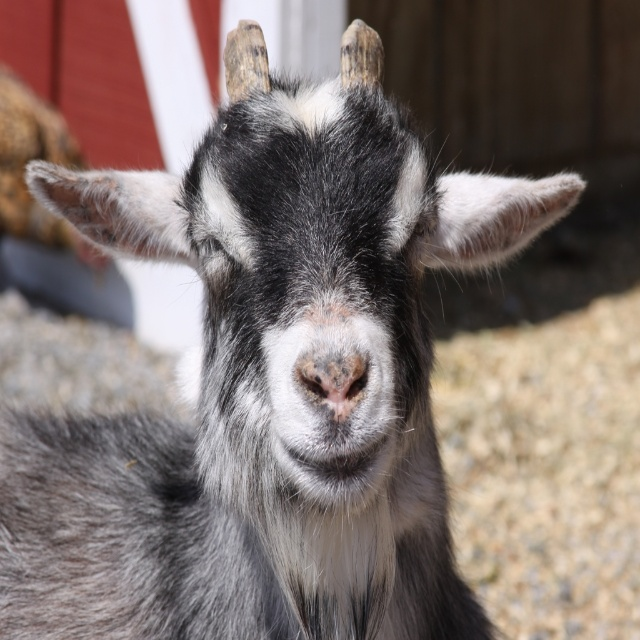Goat: (1, 19, 587, 639)
